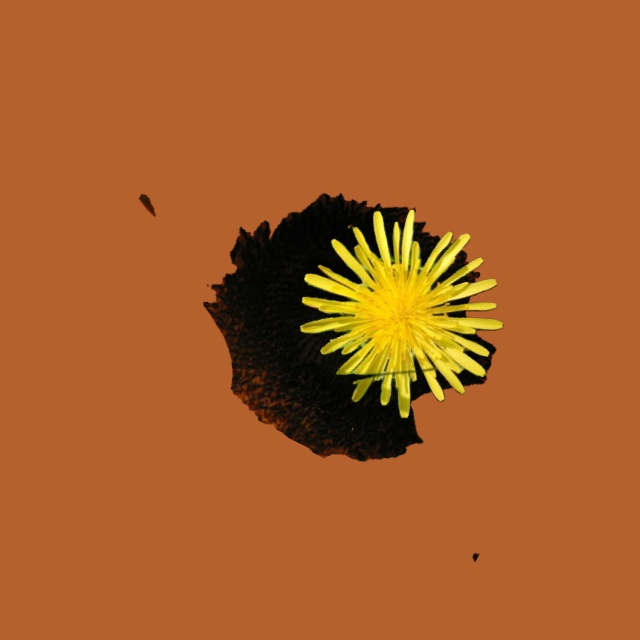dandelion: (300, 210, 503, 418)
sunflower: (139, 193, 495, 561)
